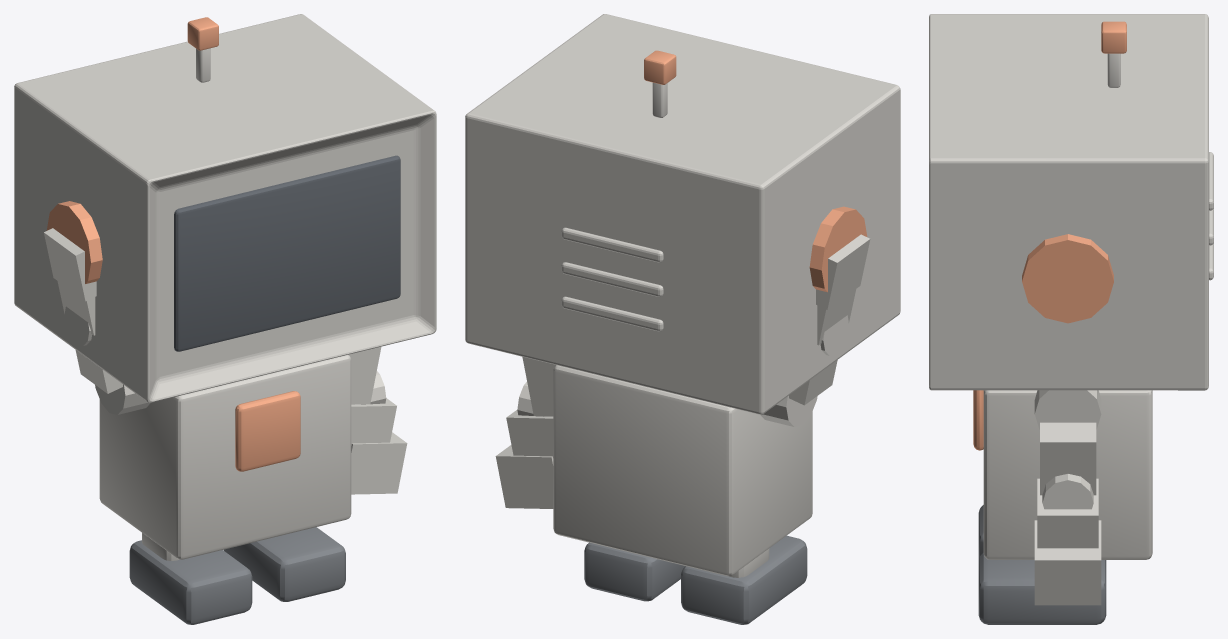
File: cortexa-robot.glb
3 renders of one model, left to right at view 1: azimuth 30°, elevation 25°; view 2: azimuth 150°, elevation 25°; view 3: azimuth 270°, elevation 25°, orthographic. The views are drawn at different scales.
Parts seen in each view (by area): view 1: RobotHead, RobotTorso, RobotScreen, RobotLegL, RobotArmR, RobotLegR, RobotArmL, RobotEarL, RobotAntenna; view 2: RobotHead, RobotTorso, RobotLegL, RobotArmR, RobotArmL, RobotLegR, RobotEarL, RobotAntenna; view 3: RobotHead, RobotTorso, RobotArmR, RobotEarR, RobotLegR, RobotAntenna.
Part boxes in pixels (x1=…): RobotHead: x1=14, y1=14, x2=436, y2=402; RobotTorso: x1=99, y1=355, x2=351, y2=559; RobotScreen: x1=174, y1=155, x2=400, y2=351; RobotLegL: x1=129, y1=533, x2=252, y2=624; RobotArmR: x1=348, y1=346, x2=407, y2=494; RobotLegR: x1=223, y1=527, x2=345, y2=601; RobotArmL: x1=44, y1=228, x2=150, y2=414; RobotEarL: x1=46, y1=201, x2=102, y2=283; RobotAntenna: x1=187, y1=17, x2=218, y2=82; RobotHead: x1=465, y1=14, x2=900, y2=414; RobotTorso: x1=553, y1=365, x2=812, y2=576; RobotLegL: x1=681, y1=535, x2=807, y2=624; RobotArmR: x1=495, y1=357, x2=555, y2=508; RobotArmL: x1=760, y1=234, x2=870, y2=426; RobotLegR: x1=584, y1=542, x2=685, y2=601; RobotEarL: x1=809, y1=206, x2=867, y2=292; RobotAntenna: x1=644, y1=50, x2=676, y2=117; RobotHead: x1=929, y1=14, x2=1213, y2=390; RobotTorso: x1=973, y1=390, x2=1152, y2=559; RobotArmR: x1=1034, y1=390, x2=1101, y2=605; RobotEarR: x1=1022, y1=234, x2=1113, y2=323; RobotLegR: x1=978, y1=552, x2=1106, y2=624; RobotAntenna: x1=1101, y1=21, x2=1126, y2=87.
Bounding box in the file's own units: 1.56 × 2.42 × 1.11.
